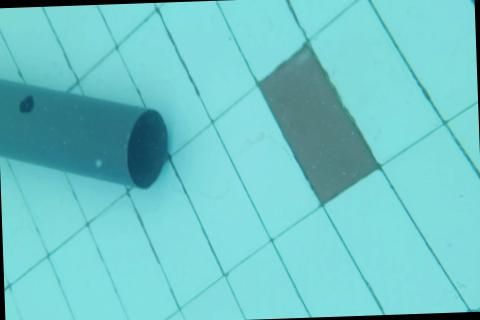kebocoran: (18, 93, 36, 116)
